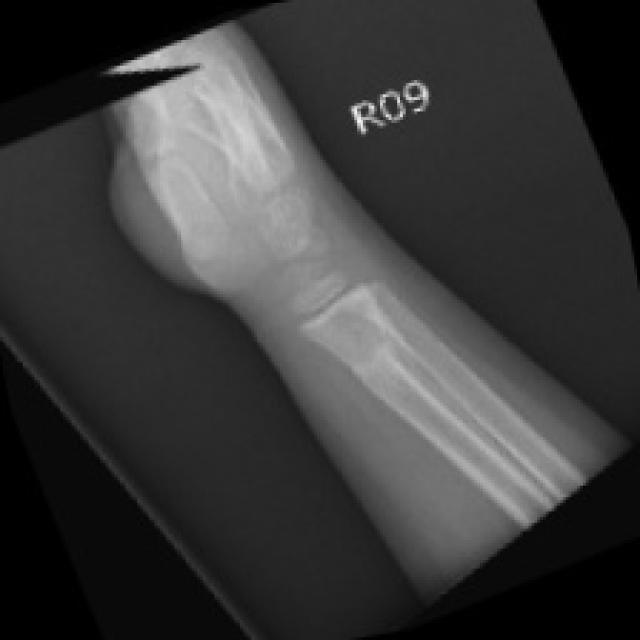fracture: (327, 316, 427, 412)
